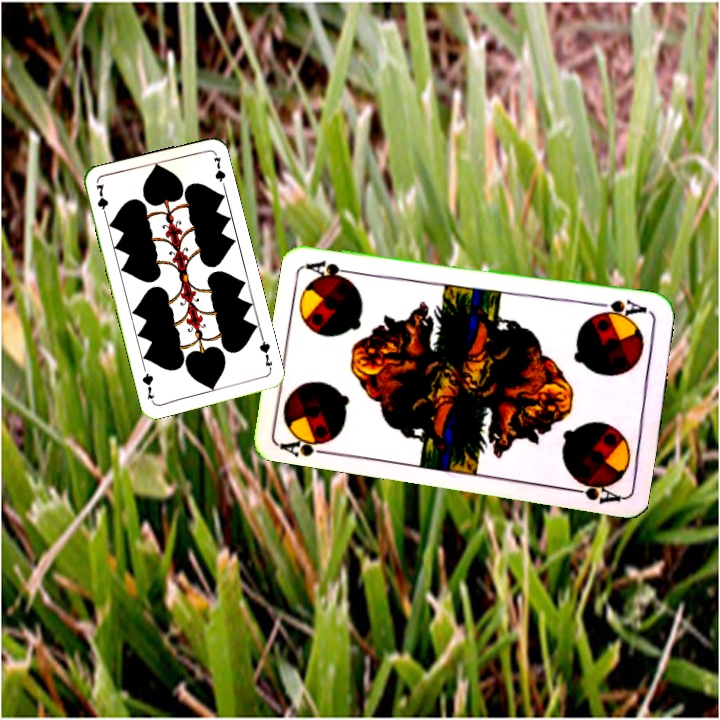G7: (255, 333, 275, 373), (92, 180, 111, 221)
SA: (276, 428, 338, 459), (592, 295, 653, 323)
